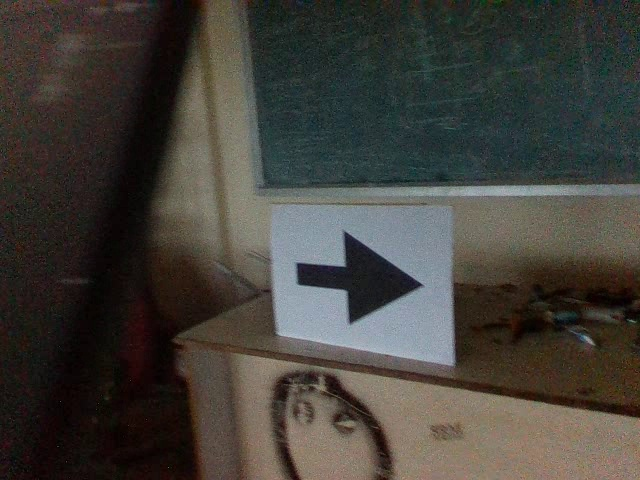Right: (293, 227, 429, 334)
